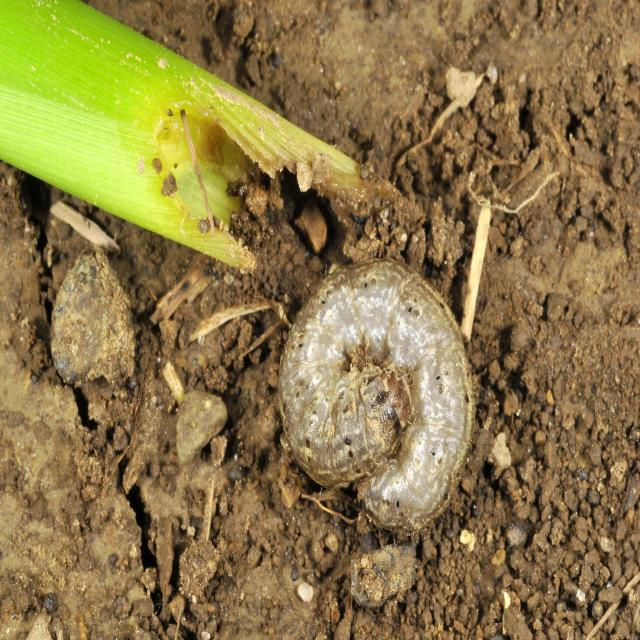black cutworm: (282, 251, 488, 546)
